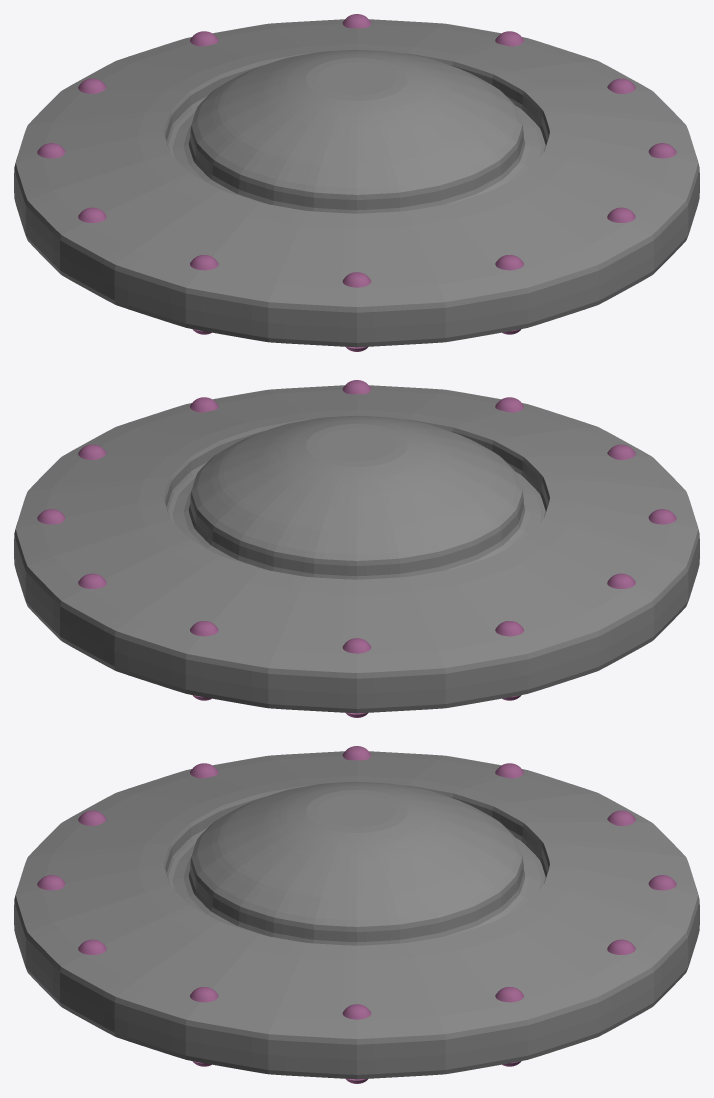
File: ufo2.fbx
3 views of the same model, one above another, from view 1: azimuth 30°, elevation 25°; view 2: azimuth 150°, elevation 25°; view 3: azimuth 270°, elevation 25° (orthographic).
Parts seen in each view (by area): view 1: Ufo, Dots; view 2: Ufo, Dots; view 3: Ufo, Dots.
Part boxes in pixels (<box>): Ufo: <box>14,19,699,347</box>; Dots: <box>37,14,676,351</box>; Ufo: <box>14,385,699,713</box>; Dots: <box>37,380,676,717</box>; Ufo: <box>14,751,699,1079</box>; Dots: <box>37,746,676,1083</box>.
Bounding box in the file's own units: 175 × 61.87 × 175.
